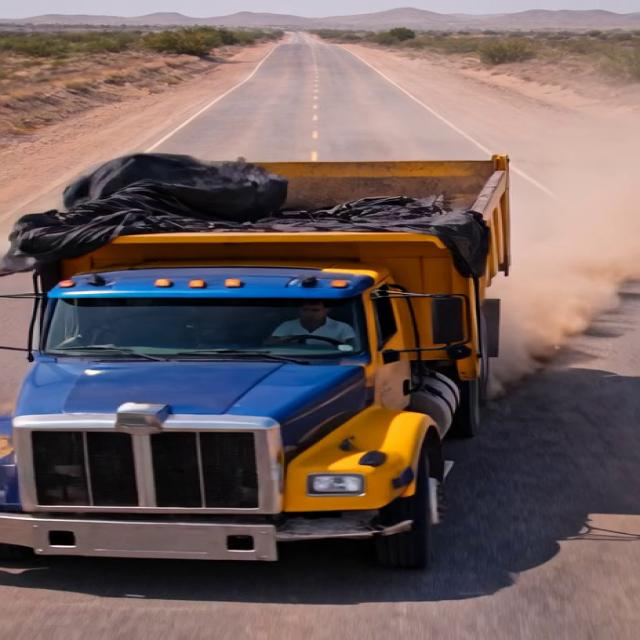trailer: (6, 143, 513, 265)
truck: (0, 123, 534, 563)
